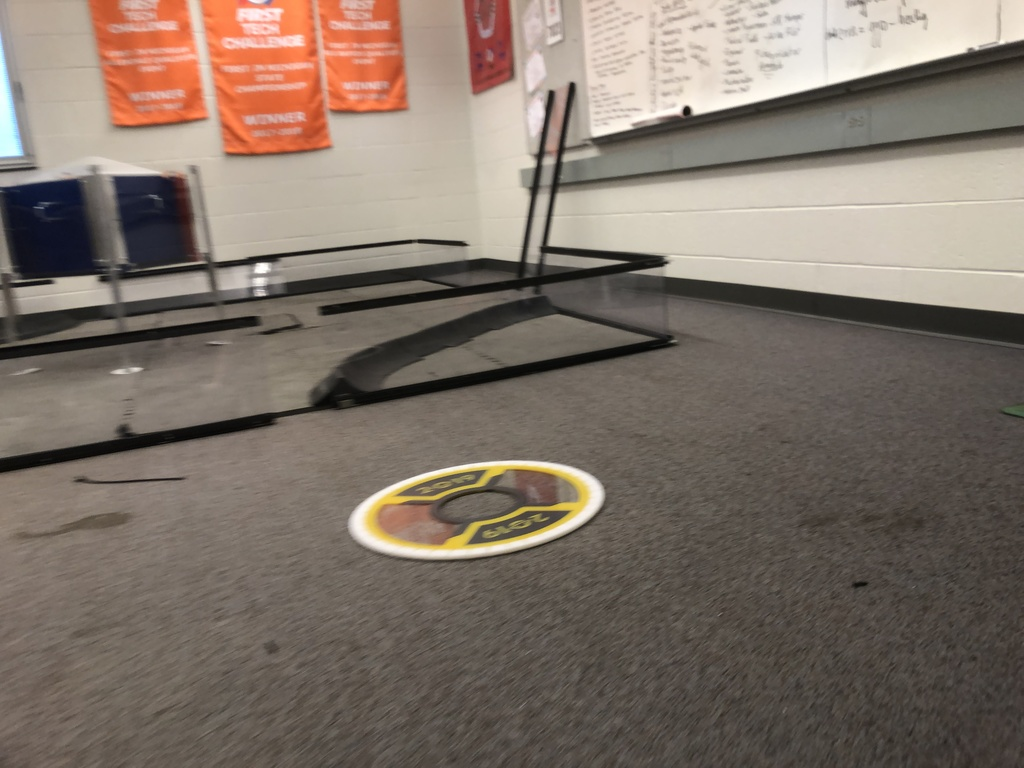hatch_panel: (338, 448, 618, 571)
